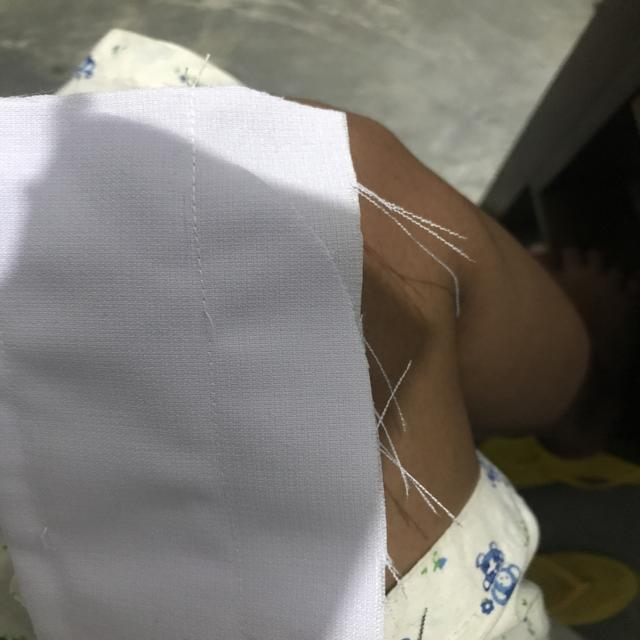skip: (175, 283, 241, 376)
